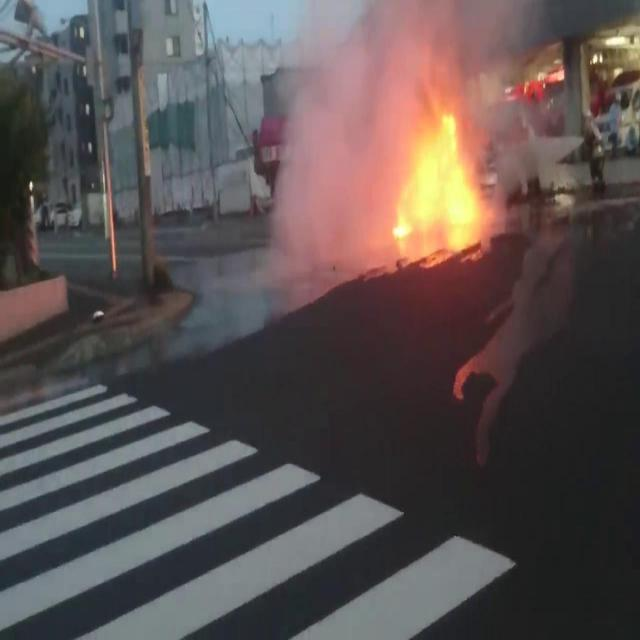fire: (392, 96, 493, 237)
